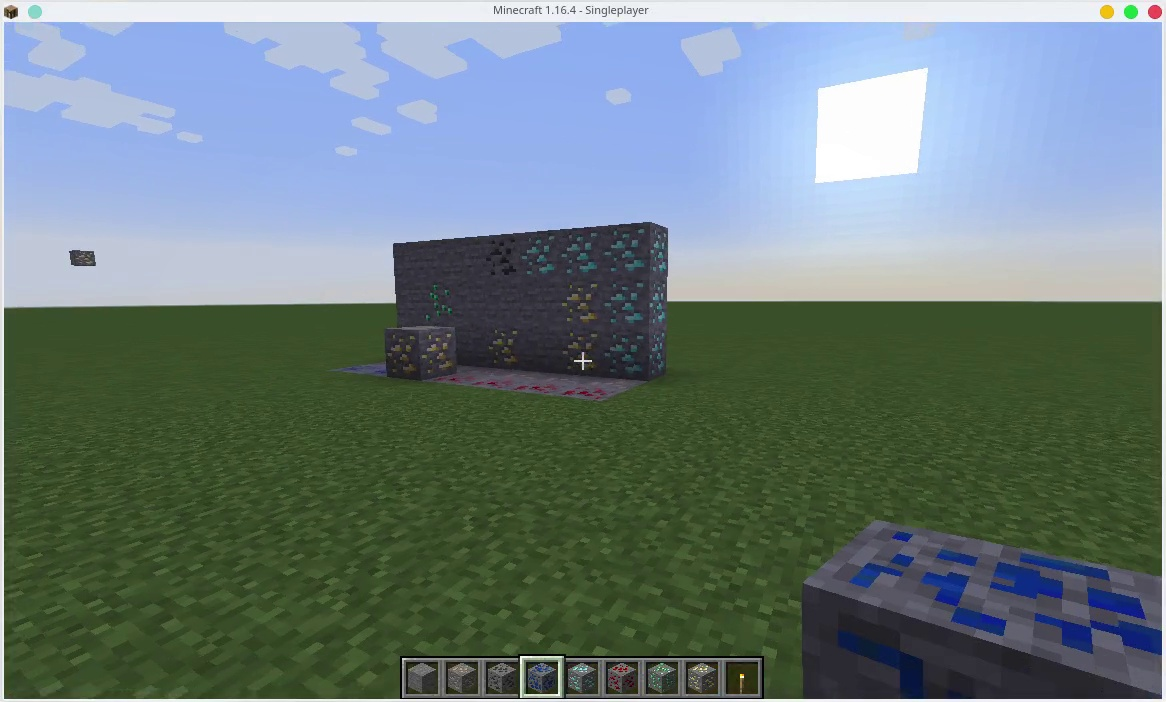gold: (387, 328, 447, 376), (475, 330, 527, 376), (559, 279, 603, 326), (552, 332, 590, 369)
